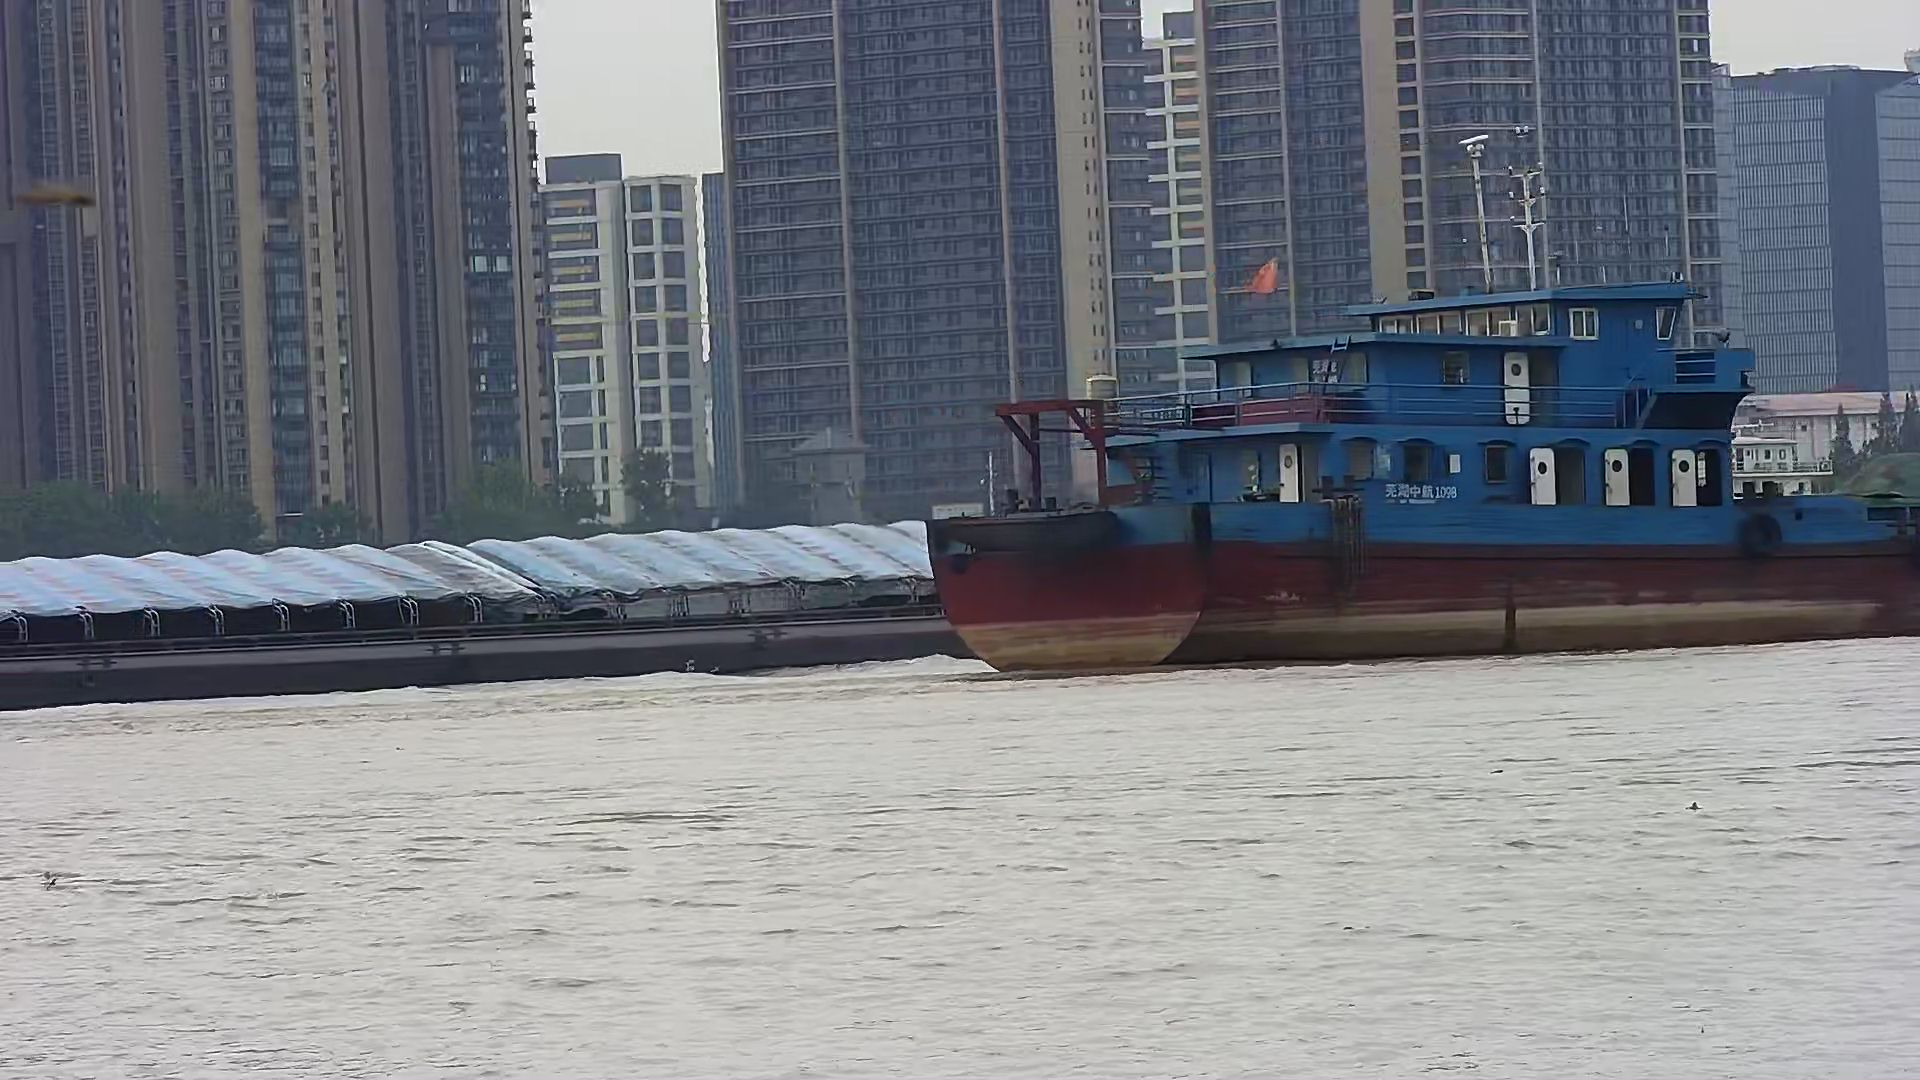ship: (923, 280, 1920, 735), (1, 529, 1001, 716)
